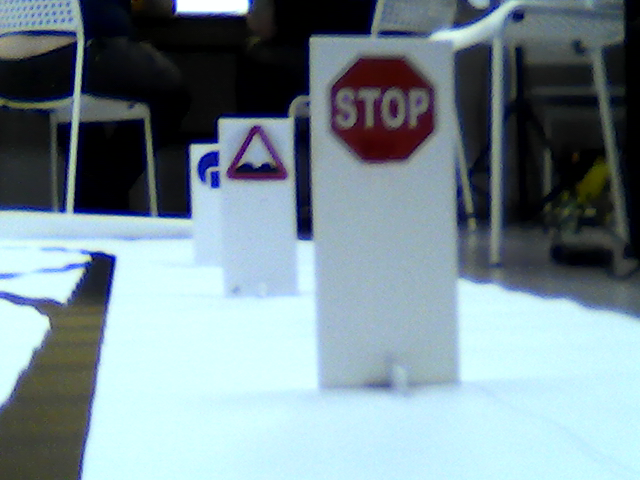Nerov: (226, 123, 287, 182)
Stop: (326, 56, 439, 167)
